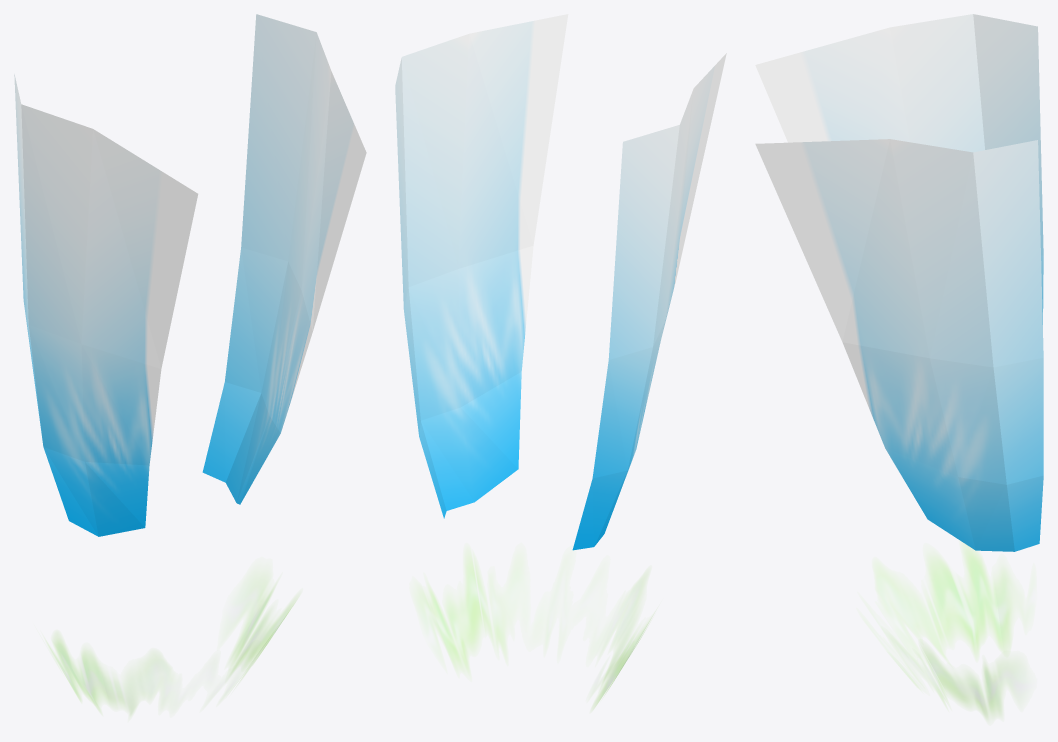
The model's file is default-wave.glb.
The picture shows the model from 3 angles, left to right: view 1: azimuth 30°, elevation 25°; view 2: azimuth 150°, elevation 25°; view 3: azimuth 270°, elevation 25°; orthographic projection. The views are drawn at different scales.
Parts seen in each view (by area): view 1: 자기장03_Geom, Cylinder01_Geom; view 2: 자기장03_Geom, Cylinder01_Geom; view 3: 자기장03_Geom, Cylinder01_Geom.
Part boxes in pixels (left/top/right/bottom): 자기장03_Geom: left=14, top=14, right=366, bottom=536; Cylinder01_Geom: left=47, top=578, right=296, bottom=715; 자기장03_Geom: left=395, top=14, right=726, bottom=550; Cylinder01_Geom: left=420, top=556, right=650, bottom=708; 자기장03_Geom: left=755, top=14, right=1043, bottom=551; Cylinder01_Geom: left=877, top=545, right=1034, bottom=718.
Bounding box in the file's own units: 3.16 × 6.58 × 2.79.
2 materials, 2 textured.
